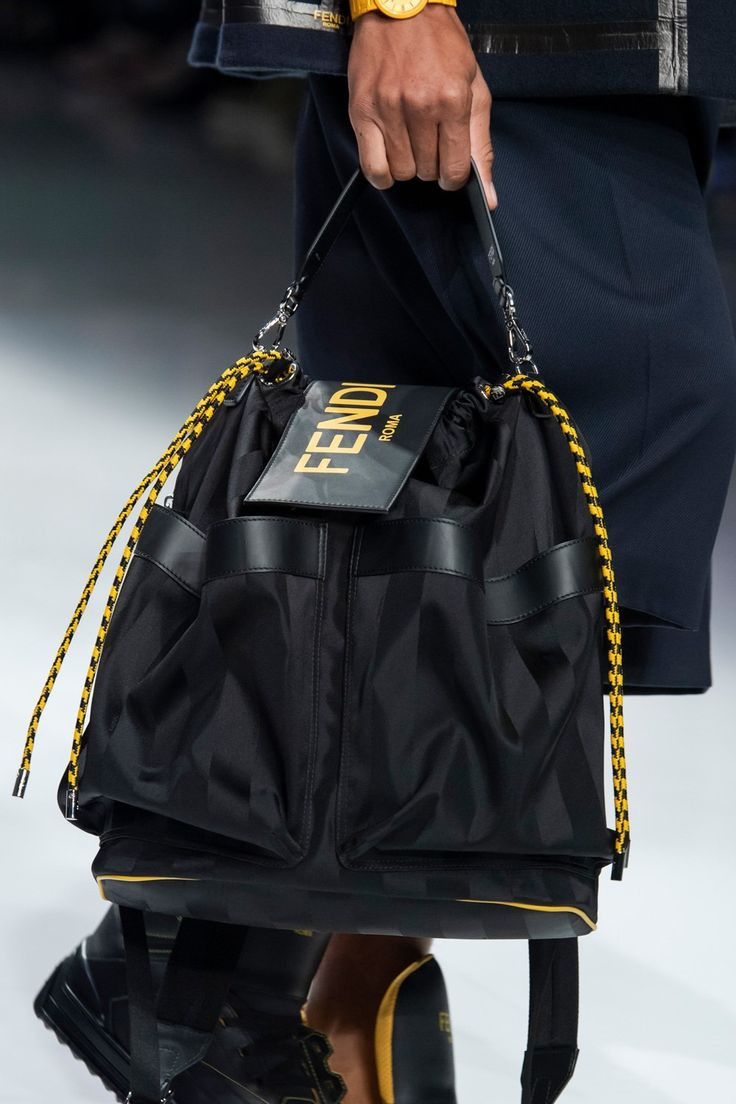nylon: (58, 370, 615, 943)
